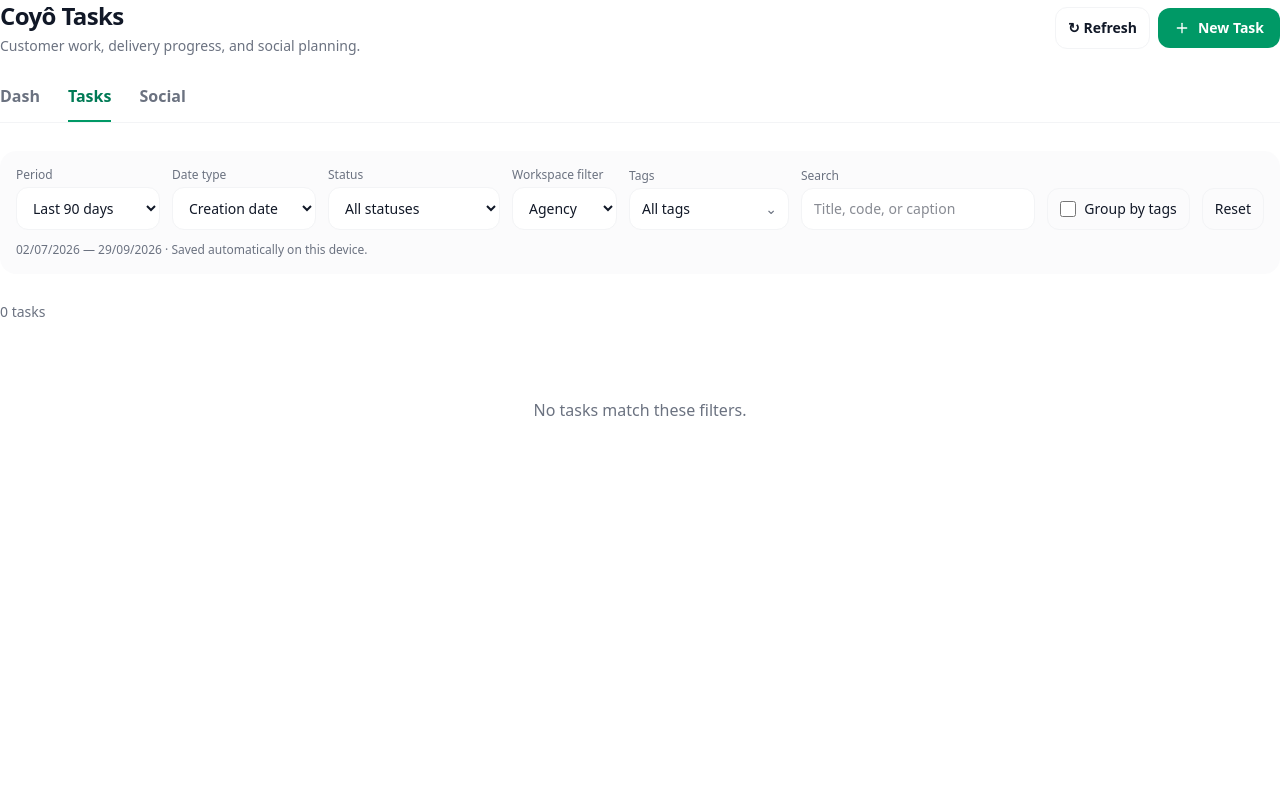
Test case: shows post types, emphasizes post dates, and makes the whole post row clickable
Click the button "social" at (163, 103), box x1=140 y1=84 x2=186 y2=122
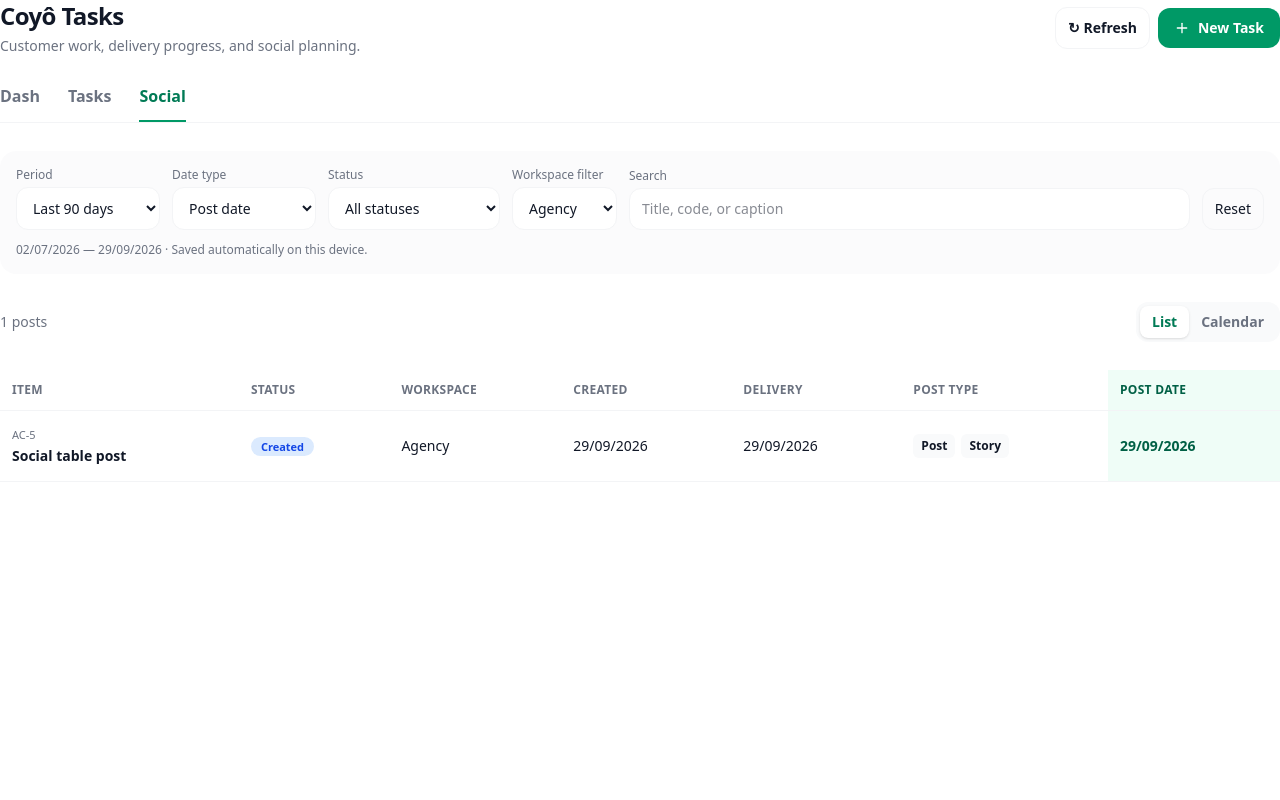
Expected: the column heading "Execution" is not shown
Now the column heading "Post type" is shown, box x1=901 y1=370 x2=1108 y2=410
Now the text "Story" is shown, box x1=962 y1=434 x2=1009 y2=458
Click the button "AC-5 Social table post" at (640, 446), box x1=0 y1=410 x2=1279 y2=482
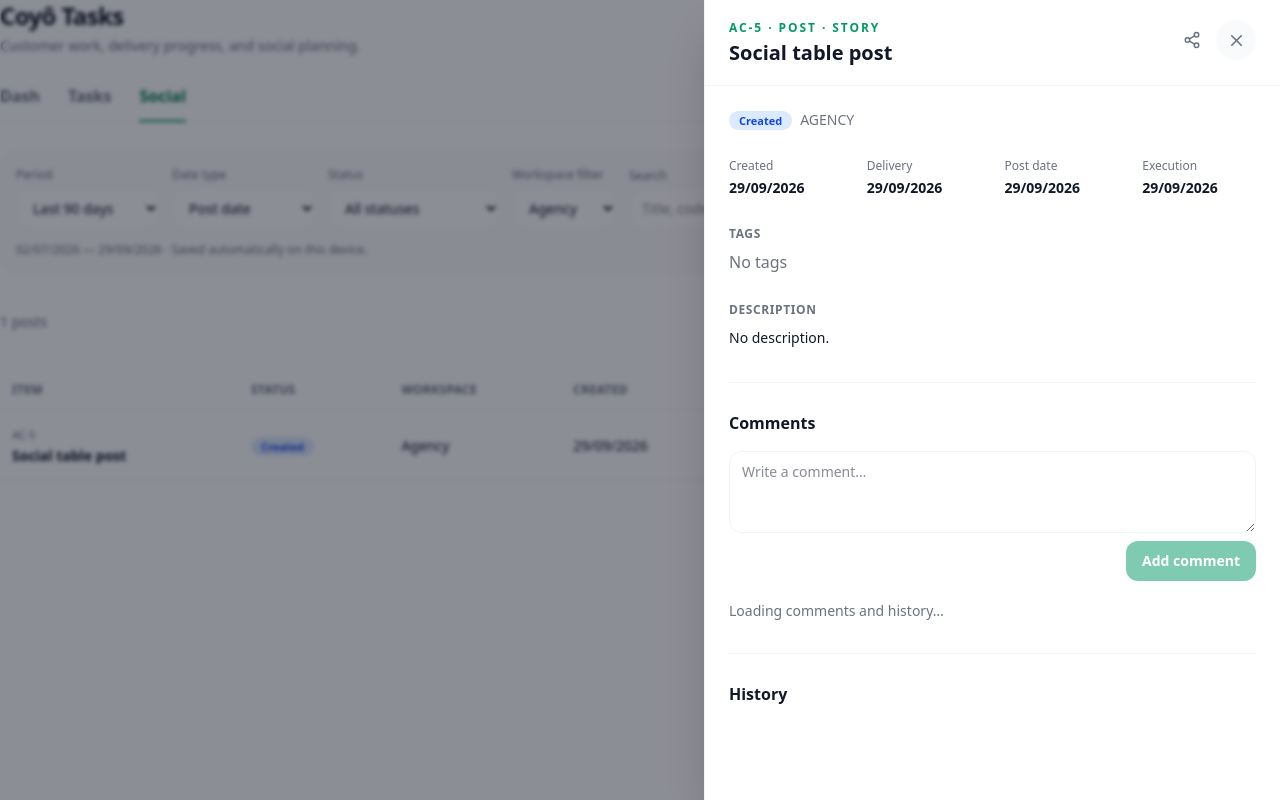
Now the dialog is shown
